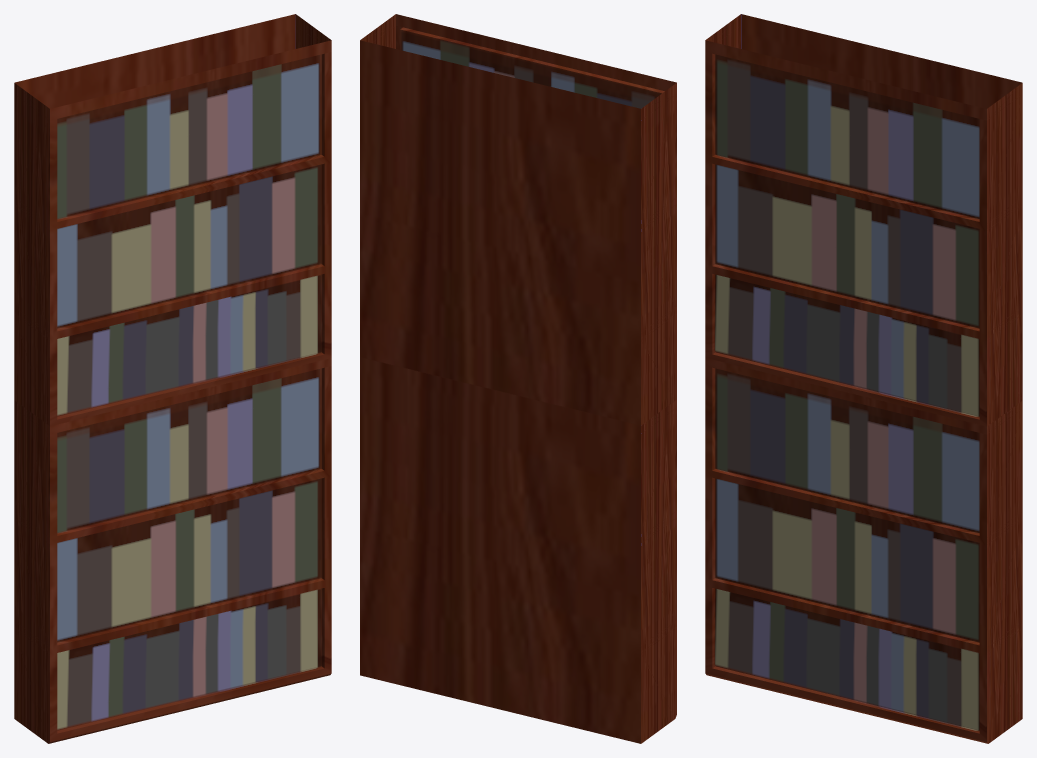
The model's file is shelf_Big.fbx.
3 views of the same model, side by side, from view 1: azimuth 30°, elevation 25°; view 2: azimuth 150°, elevation 25°; view 3: azimuth 330°, elevation 25° (orthographic).
Visible parts, largest first — view 1: shelf_Mapped6; view 2: shelf_Mapped6; view 3: shelf_Mapped6.
Part boxes in pixels (x1,y1,x2,y2): shelf_Mapped6: (14, 14, 331, 743); shelf_Mapped6: (360, 14, 676, 743); shelf_Mapped6: (705, 14, 1022, 743).
Size of the model in its own units: 13 by 28.07 by 2.87.
